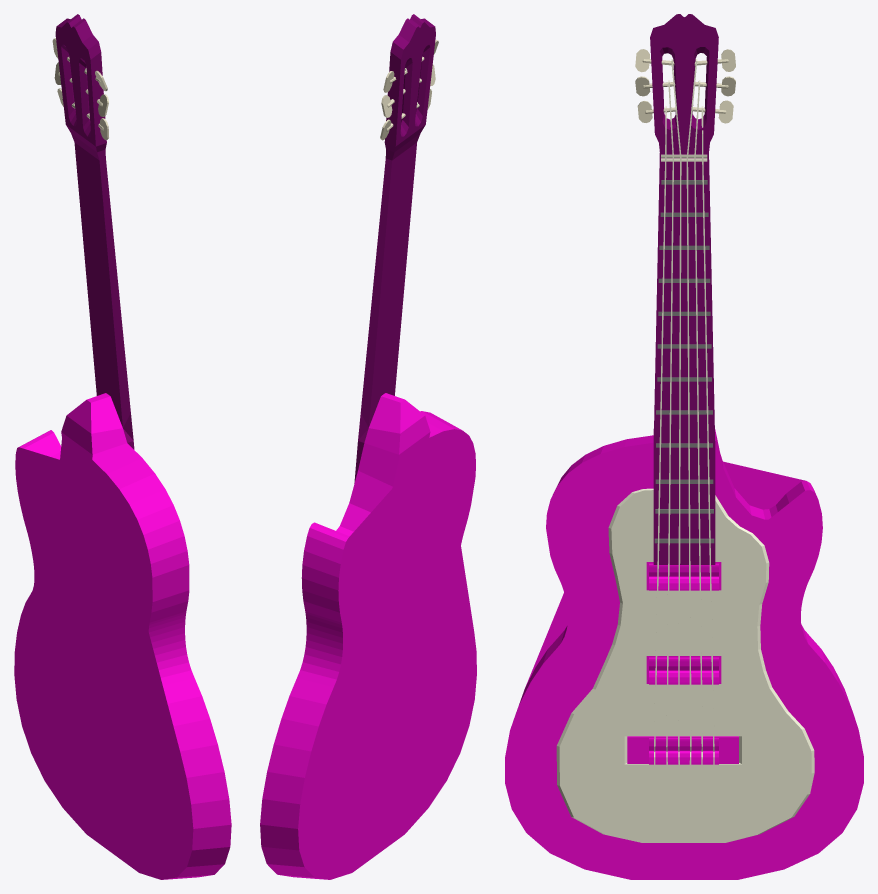
The model's file is Pink_Guitar.fbx.
3 views of the same model, side by side, from view 1: azimuth 30°, elevation 25°; view 2: azimuth 150°, elevation 25°; view 3: azimuth 270°, elevation 25° (orthographic).
Visible parts, largest first — view 1: pink; view 2: pink; view 3: pink.
Boxes of the visible parts, x1,y1,x2,y2 form: pink: (14,14,231,879); pink: (260,14,476,879); pink: (505,14,863,879).
Size of the model in its own units: 53.98 by 567 by 221.
Materials: 1 (1 with a texture image).
